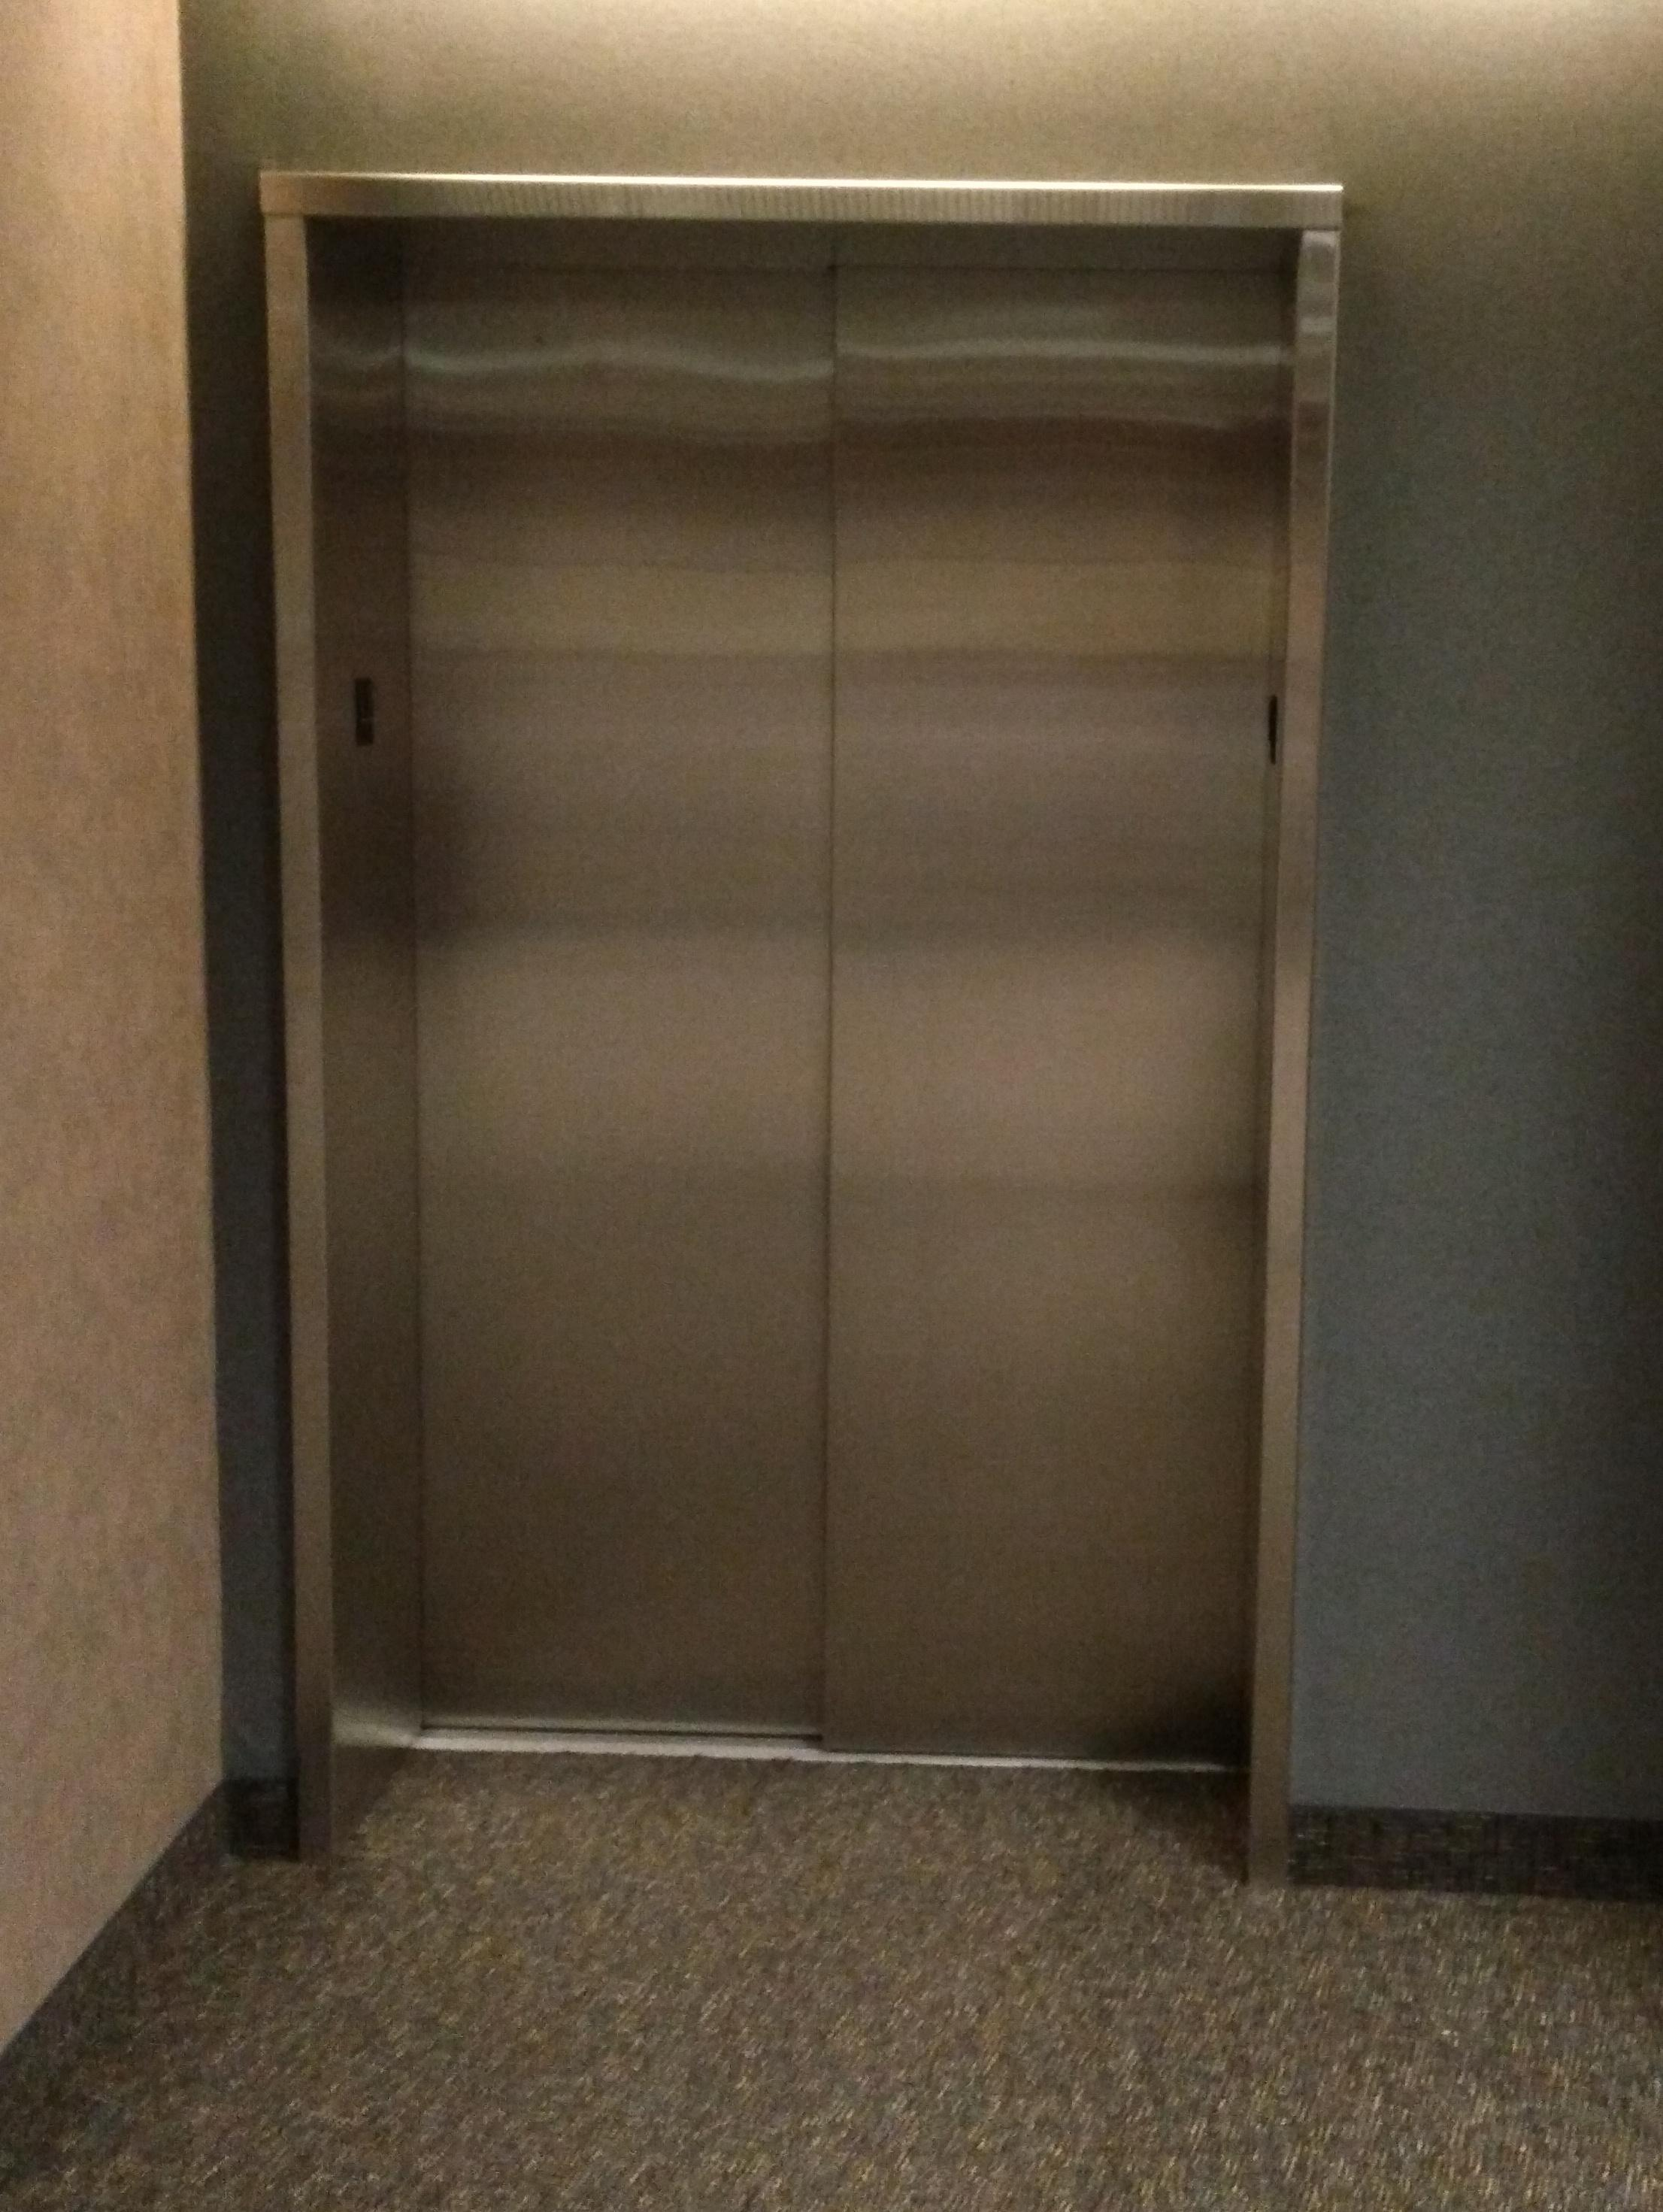door: (262, 173, 1347, 1885)
